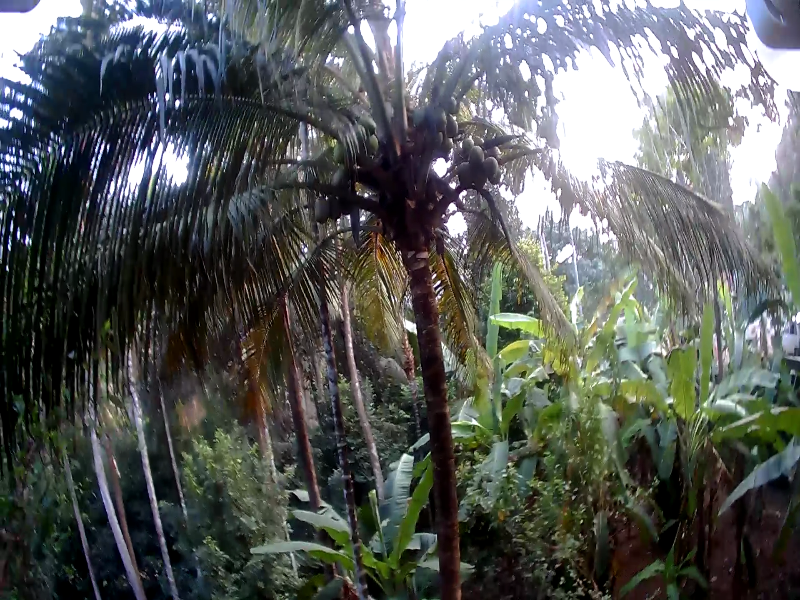coconut: (444, 113, 460, 142), (480, 156, 500, 178), (466, 144, 481, 172), (410, 101, 424, 131), (347, 125, 369, 144), (330, 166, 348, 187), (362, 130, 378, 150), (311, 200, 327, 219), (332, 148, 348, 162), (356, 116, 372, 129)
